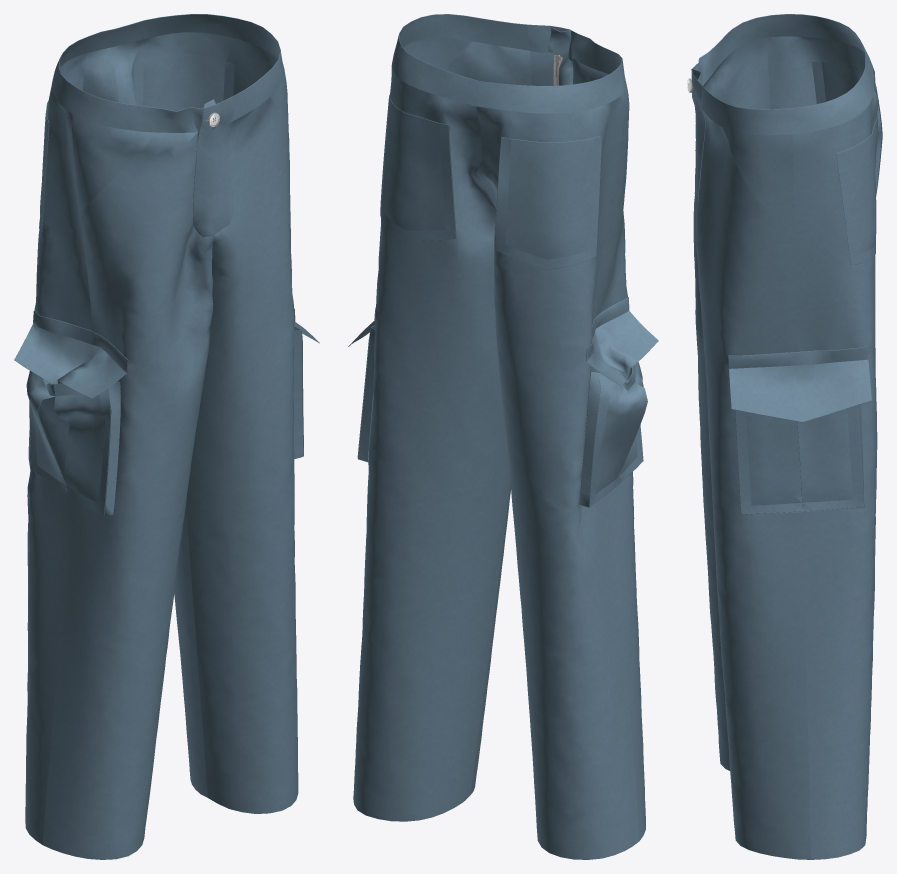
Rendered from FLG_21_03_4.fbx.
3 views of the same model, side by side, from view 1: azimuth 30°, elevation 25°; view 2: azimuth 150°, elevation 25°; view 3: azimuth 270°, elevation 25° (orthographic). The views are drawn at different scales.
Visible parts, largest first — view 1: FLG_21_03_4; view 2: FLG_21_03_4; view 3: FLG_21_03_4.
Part boxes in pixels (box(x1,y1,x2,y2)): FLG_21_03_4: box(14, 14, 319, 859); FLG_21_03_4: box(348, 14, 658, 859); FLG_21_03_4: box(687, 14, 882, 859).
Size of the model in its own units: 42.68 by 116 by 27.89.
